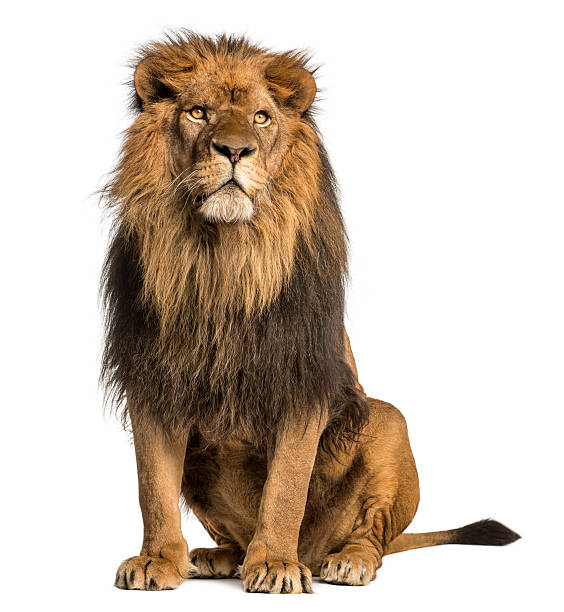lion: (60, 9, 399, 451)
